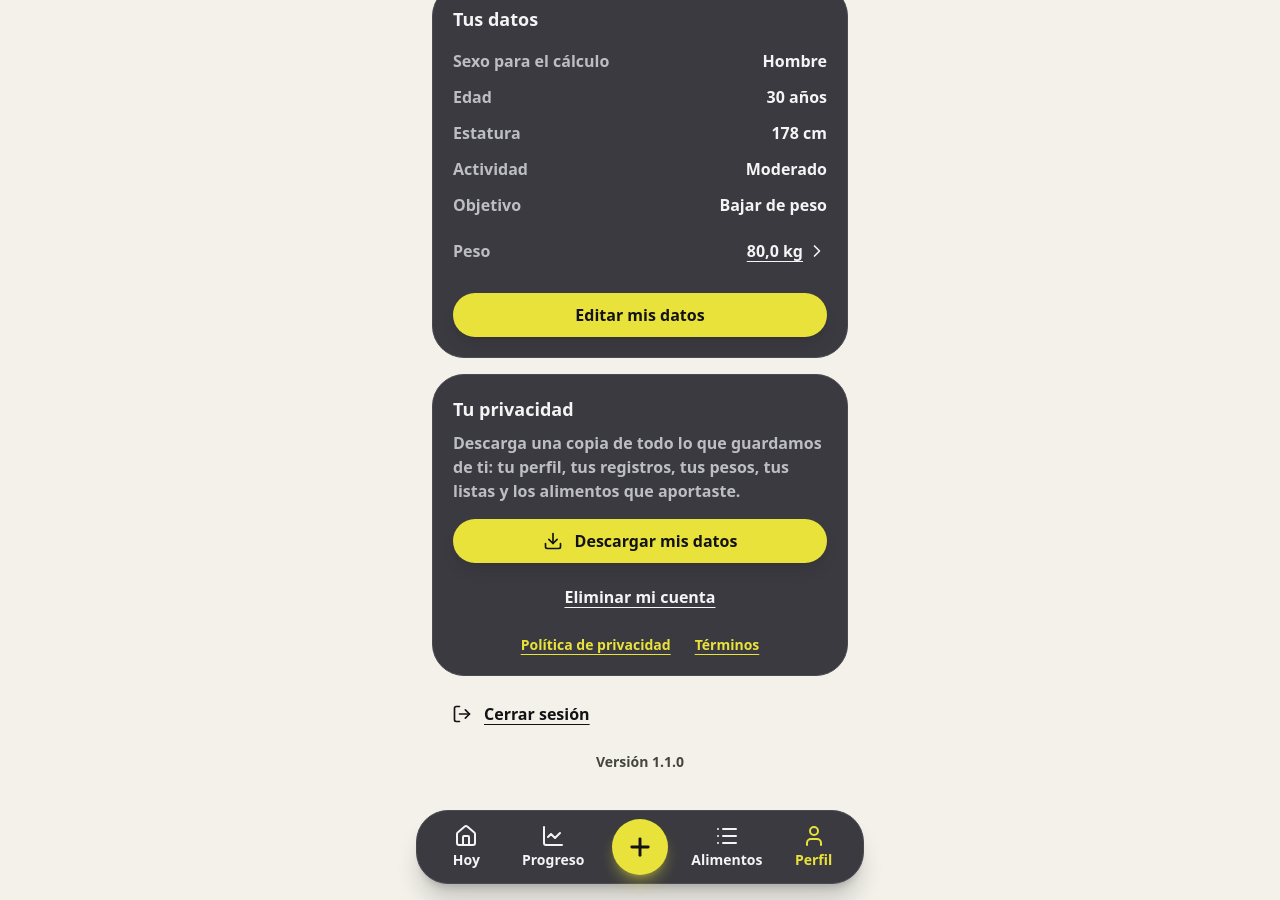
ProfilePage › delete account (HU-16 CA2) › asks for the written confirmation first
(page scrolled)
Click the button "Eliminar mi cuenta". click: (640, 597)
box: [453,575,827,619]
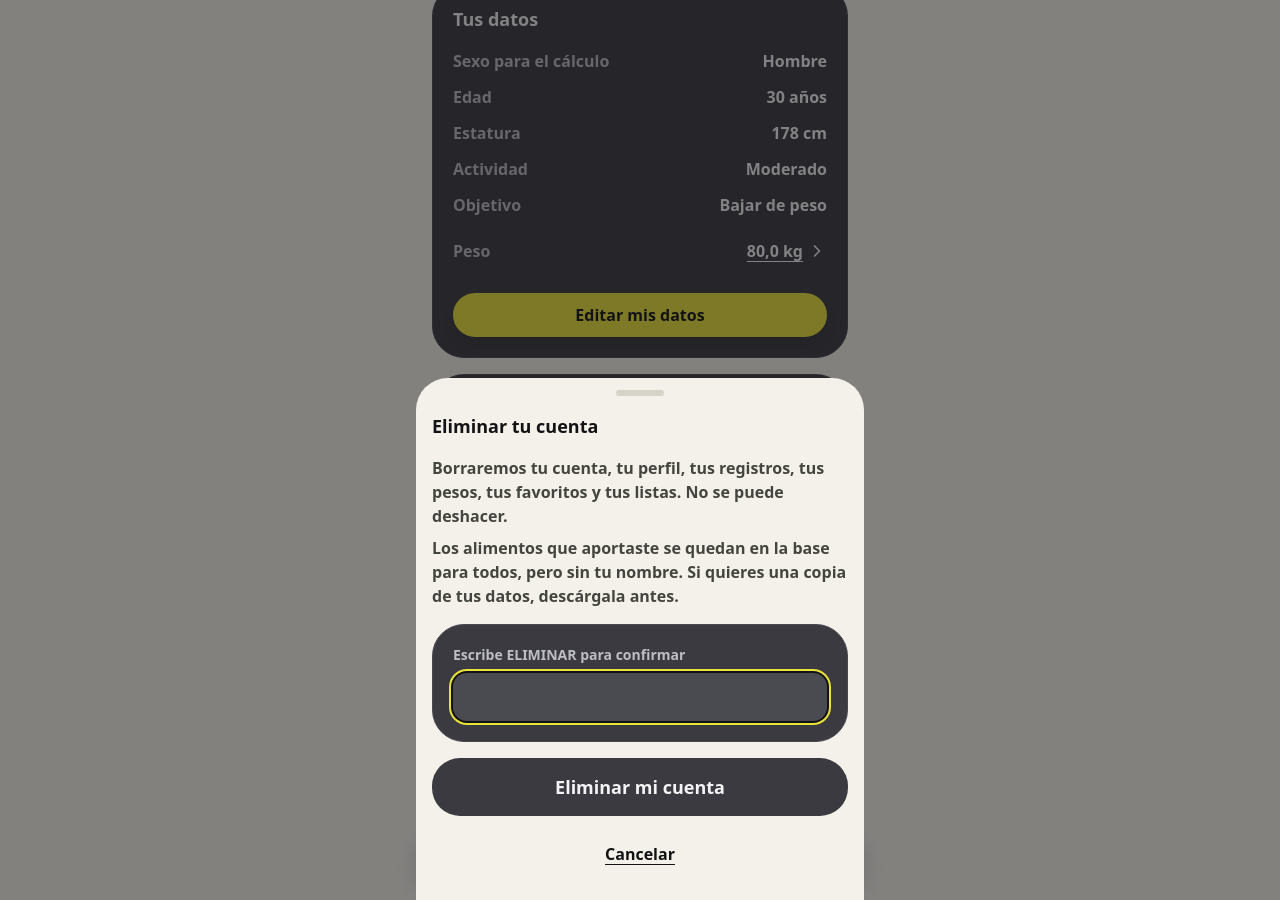
Type "borrar" into the field labelled "Escribe ELIMINAR para confirmar". click: (640, 697)
box: [453,673,827,721]
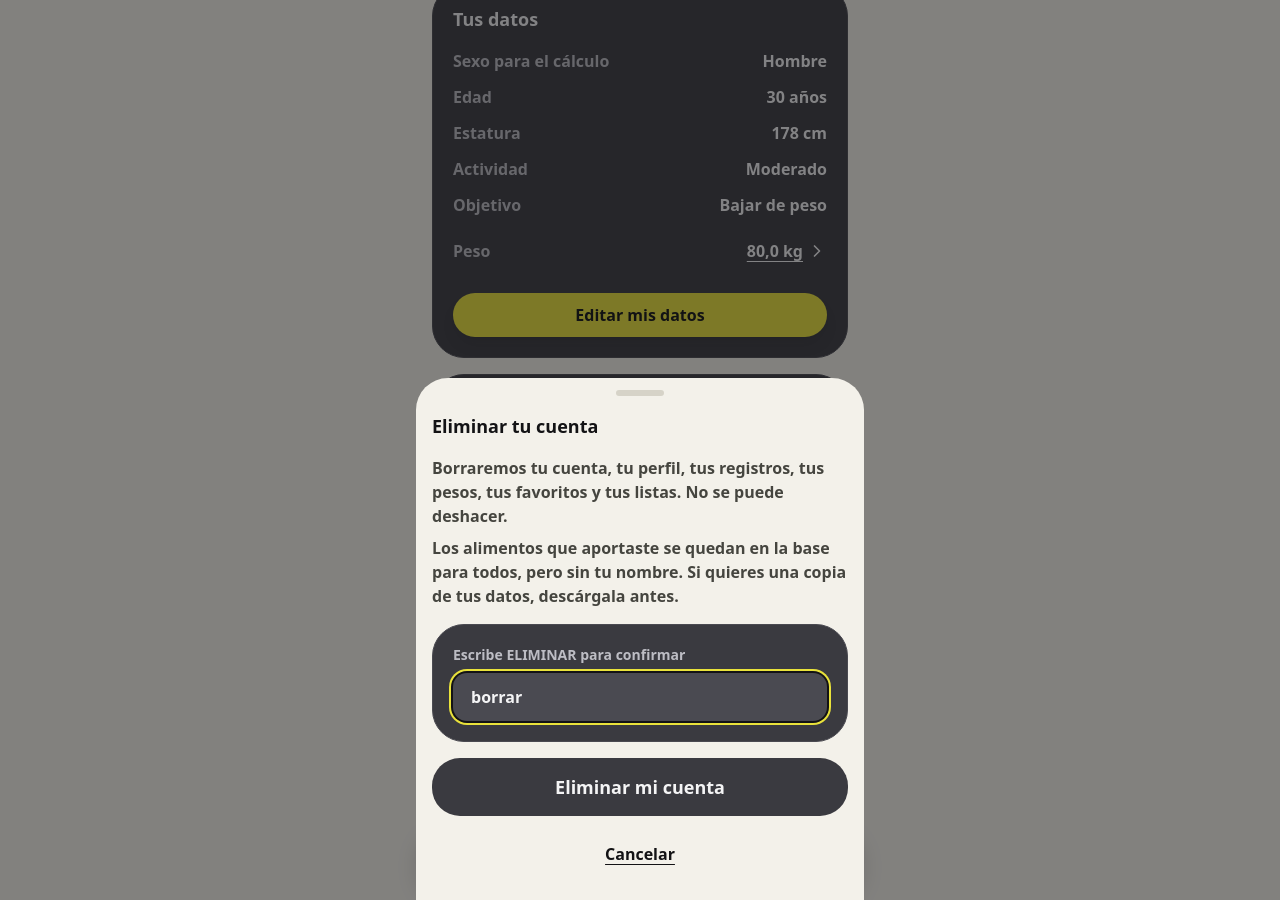
Click the button "Eliminar mi cuenta" below "Escribe ELIMINAR para confirmar". click: (640, 787)
box: [432,758,848,816]
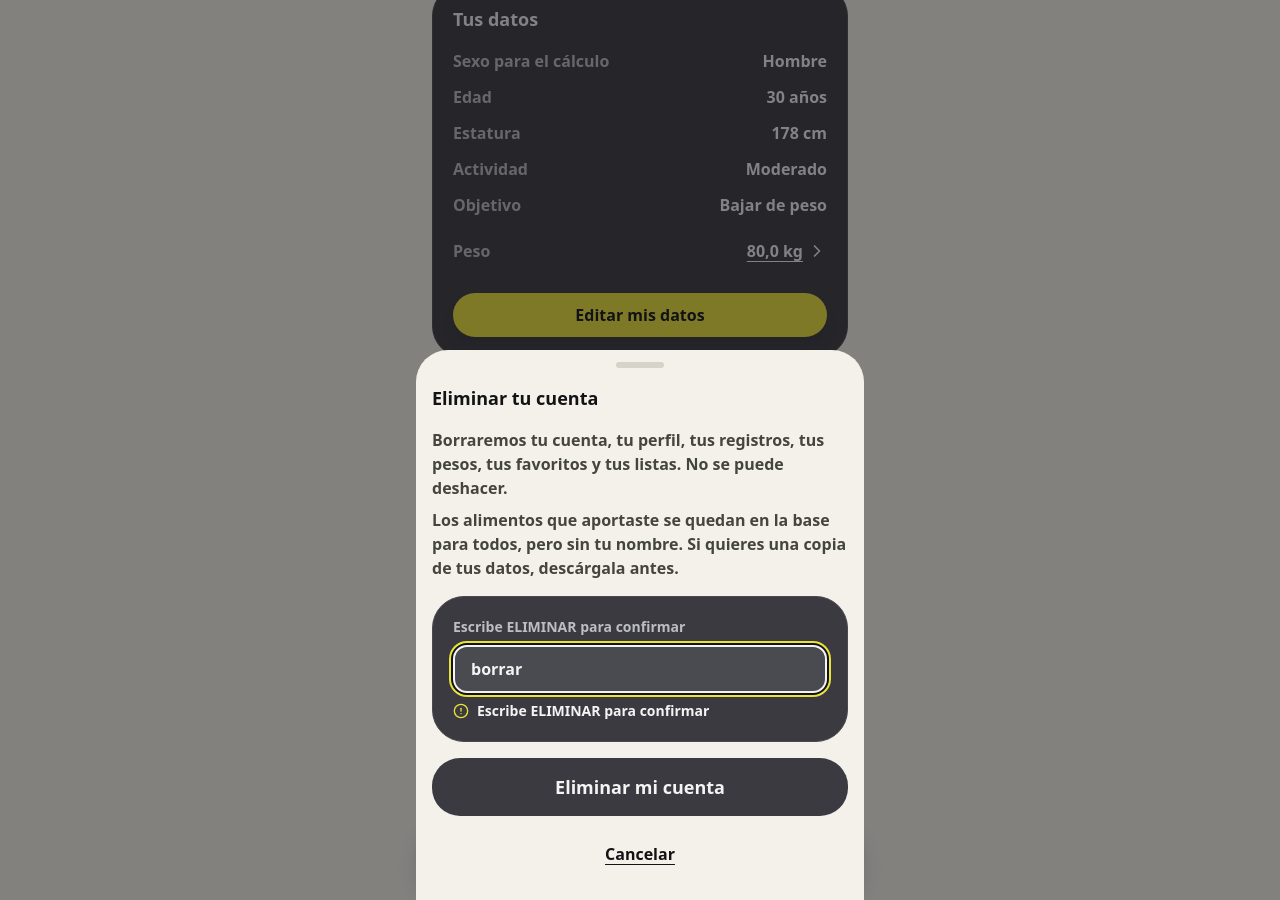
Now the text "Escribe ELIMINAR para confirmar" is shown, box [453,701,709,720]
